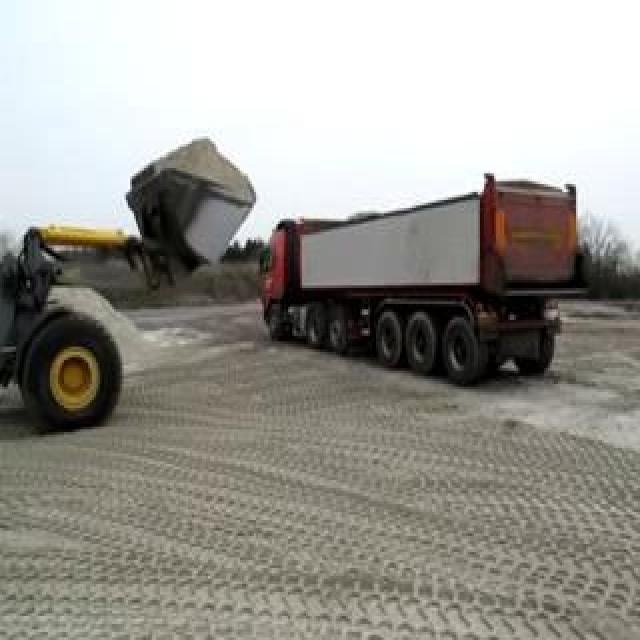buldozerpayloadergrader: (0, 162, 256, 434)
dump_truck: (256, 171, 576, 384)
